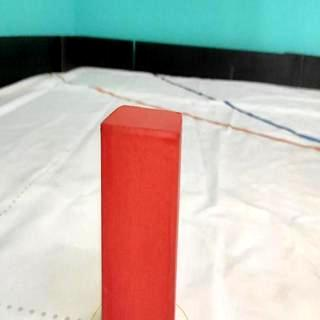redbox: (98, 103, 182, 320)
